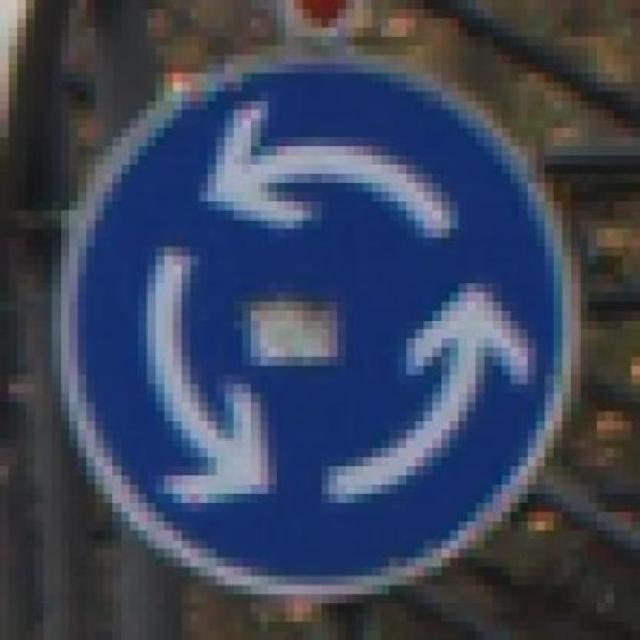Round-About: (26, 36, 614, 632)
